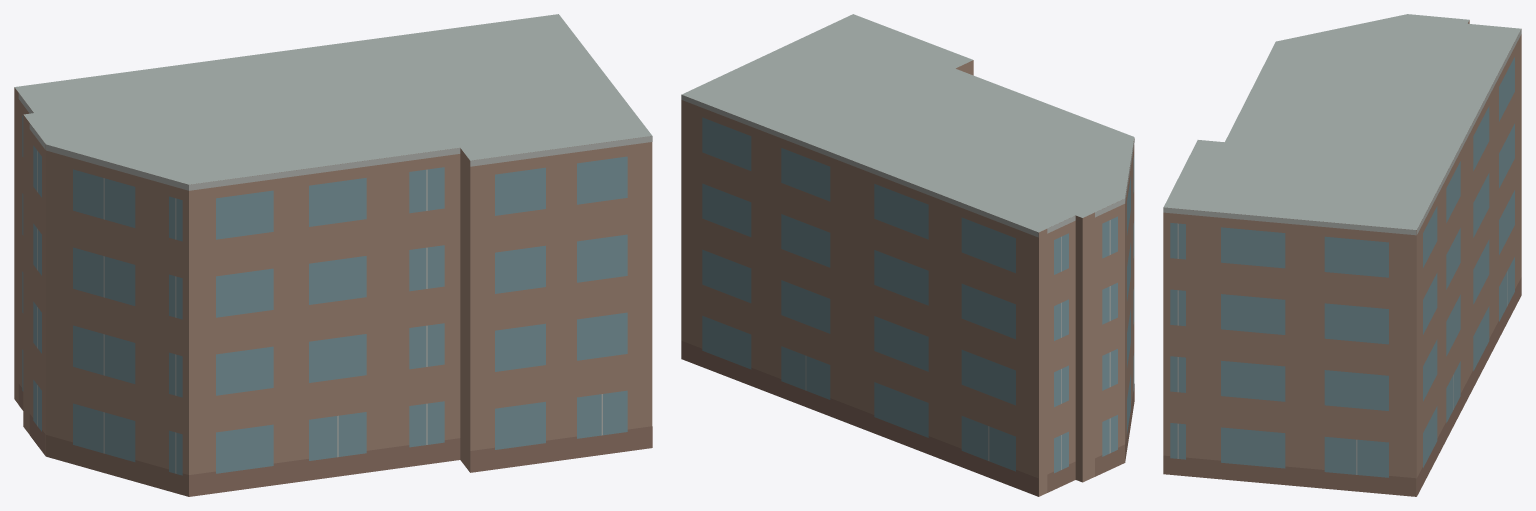
The model's file is survey-upis-33033160.glb.
3 views of the same model, side by side, from view 1: azimuth 30°, elevation 25°; view 2: azimuth 150°, elevation 25°; view 3: azimuth 270°, elevation 25° (orthographic). The views are drawn at different scales.
Parts seen in each view (by area): view 1: survey-upis-33033160.tmp; view 2: survey-upis-33033160.tmp; view 3: survey-upis-33033160.tmp.
Boxes of the visible parts, bbox=[...] form: survey-upis-33033160.tmp: bbox=[14, 14, 652, 496]; survey-upis-33033160.tmp: bbox=[681, 14, 1134, 496]; survey-upis-33033160.tmp: bbox=[1163, 14, 1521, 496].
Bounding box in the file's own units: 21.73 × 12.5 × 15.22.
